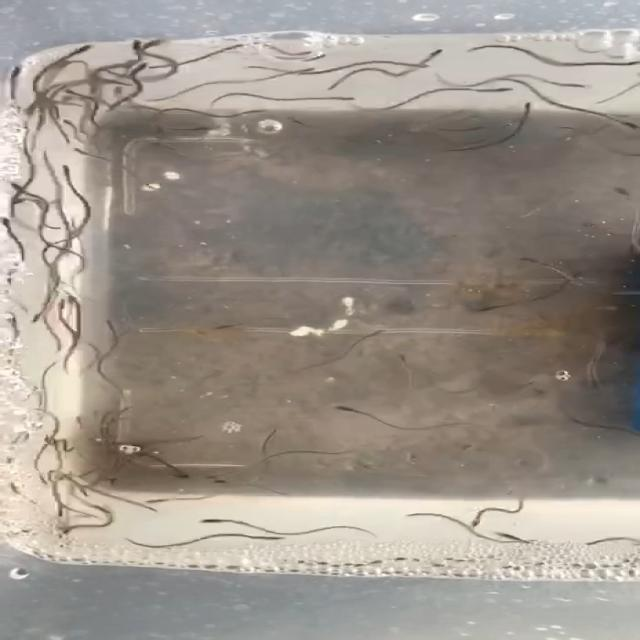inactive_glass_eel: (552, 76, 594, 96), (40, 429, 72, 452), (136, 36, 175, 54), (74, 36, 104, 59), (482, 82, 525, 98), (58, 292, 98, 308), (327, 397, 364, 414), (594, 60, 640, 73), (603, 117, 640, 133), (423, 47, 460, 62), (84, 314, 123, 328), (140, 491, 182, 504), (554, 407, 583, 425), (123, 36, 150, 55), (250, 532, 296, 543), (64, 84, 89, 103), (1, 307, 26, 326), (90, 473, 128, 485), (33, 467, 74, 478), (198, 478, 242, 488), (192, 118, 221, 133), (0, 215, 31, 229), (232, 106, 274, 116), (204, 472, 246, 482), (59, 114, 93, 126), (52, 527, 86, 539), (128, 60, 154, 75), (302, 52, 340, 62), (332, 91, 357, 106), (47, 298, 78, 310), (3, 63, 29, 77), (67, 144, 95, 157), (7, 195, 36, 207), (46, 509, 72, 522), (492, 530, 518, 543), (31, 309, 53, 324), (289, 48, 322, 58), (471, 40, 501, 51), (59, 162, 84, 175), (196, 517, 230, 526), (573, 542, 607, 551), (110, 84, 130, 99), (3, 183, 36, 192), (471, 304, 505, 312), (169, 470, 202, 478), (463, 514, 480, 527), (406, 510, 426, 519), (523, 103, 536, 116), (45, 363, 58, 376)
